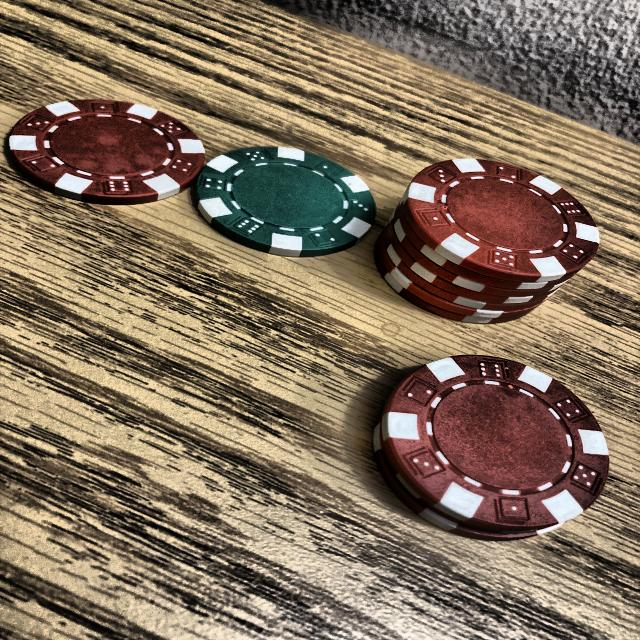Chip: (365, 336, 605, 552), (368, 127, 601, 346), (188, 125, 385, 278), (10, 79, 212, 213)
